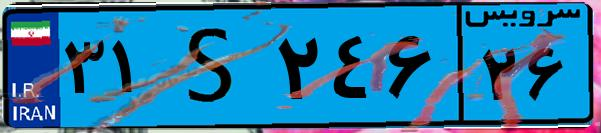1: (110, 28, 158, 98)
2: (270, 28, 330, 110), (475, 38, 525, 113)
3: (57, 26, 110, 100)
4: (330, 28, 385, 110)
6: (385, 28, 445, 110), (525, 38, 570, 115)
S: (158, 12, 270, 120)
